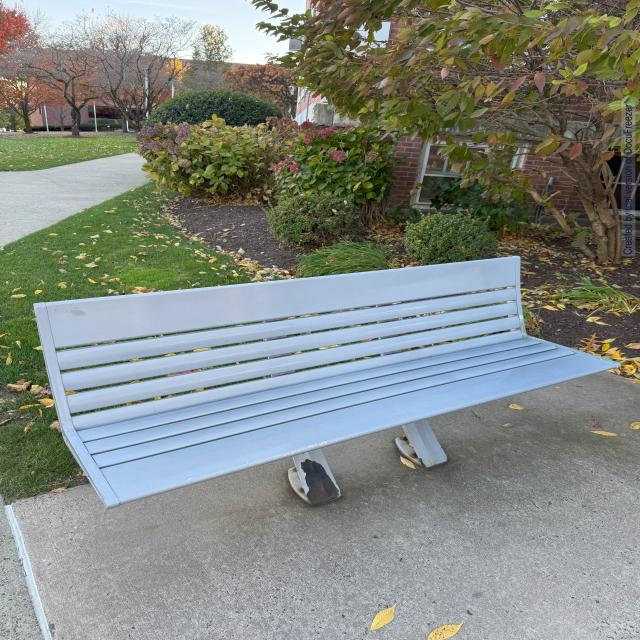chair: (25, 256, 640, 515)
